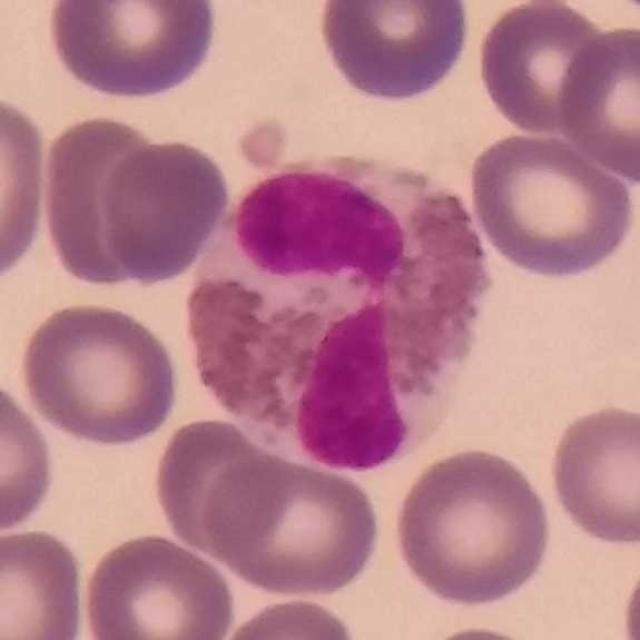eosino: (188, 152, 489, 469)
